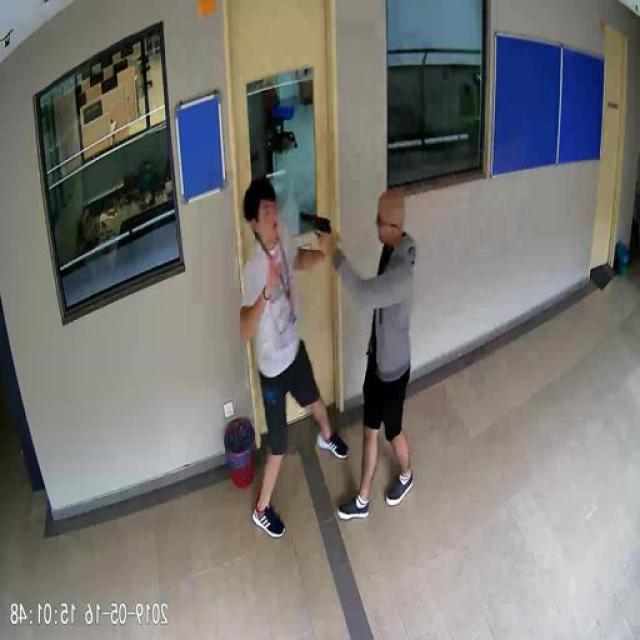weapon: (297, 212, 339, 256)
